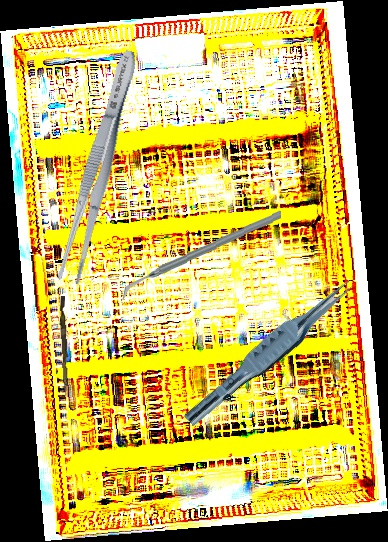Chopper: (119, 210, 284, 300)
Dressing Forceps: (53, 47, 145, 286)
Pusher: (57, 295, 72, 398)
Tissue Forceps: (182, 269, 359, 437)
